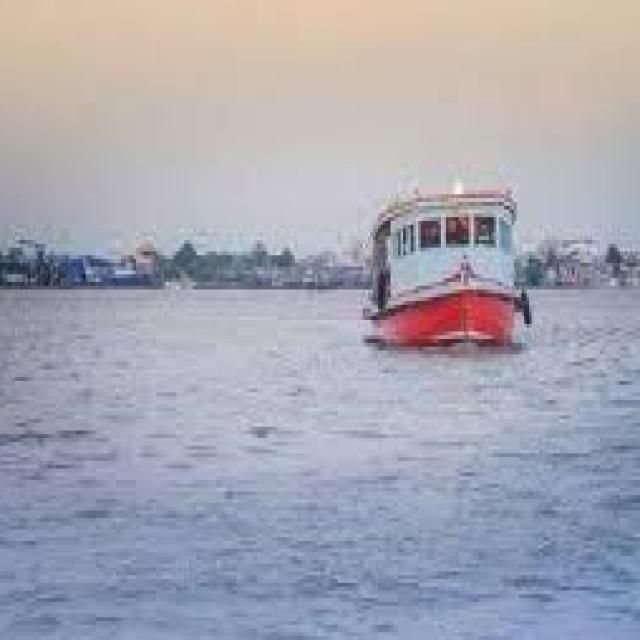houseboat: (334, 187, 532, 364)
